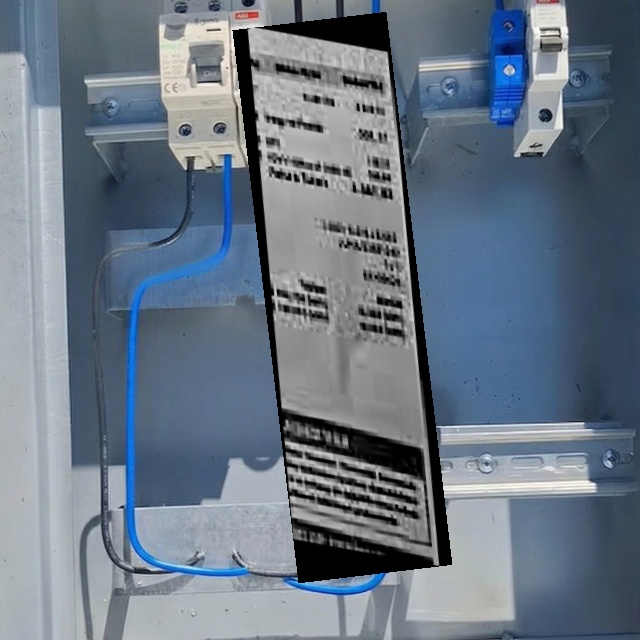electricity-bill: (232, 11, 452, 582)
